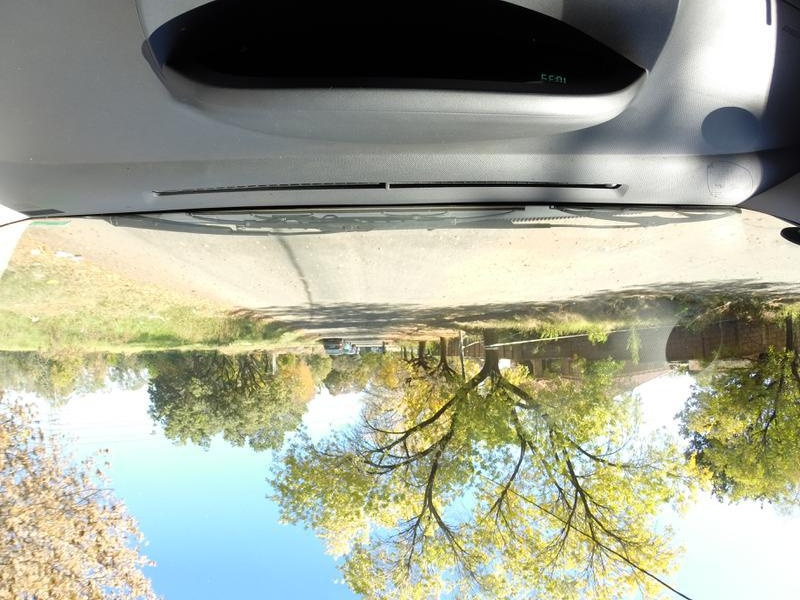pothole: (560, 235, 633, 251)
